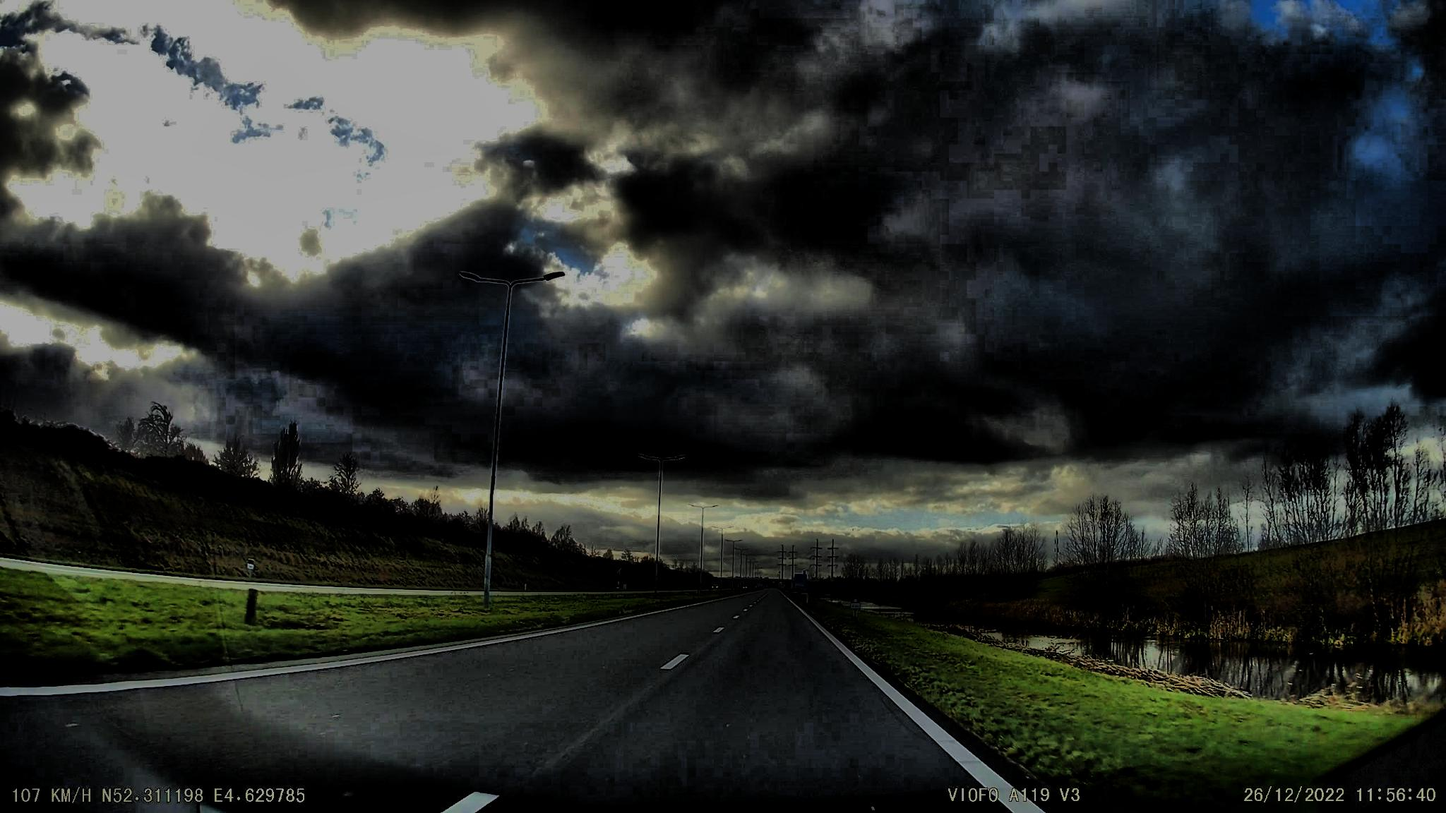Roads: (0, 592, 1090, 813)
